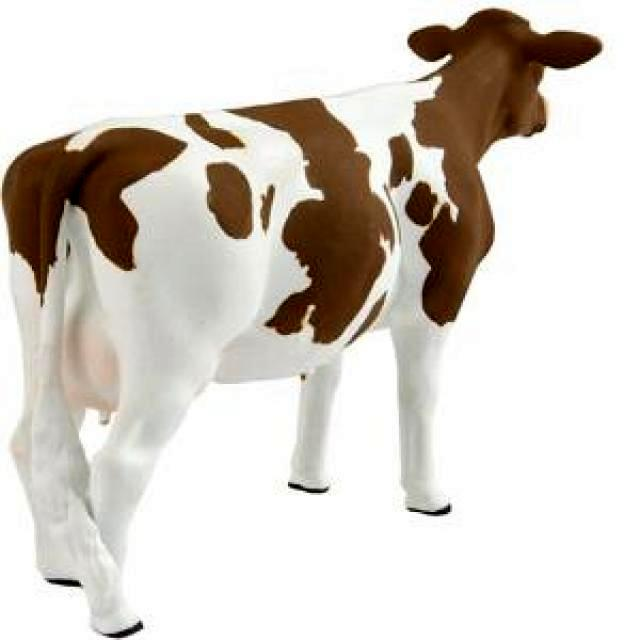COW: (2, 10, 601, 636)
